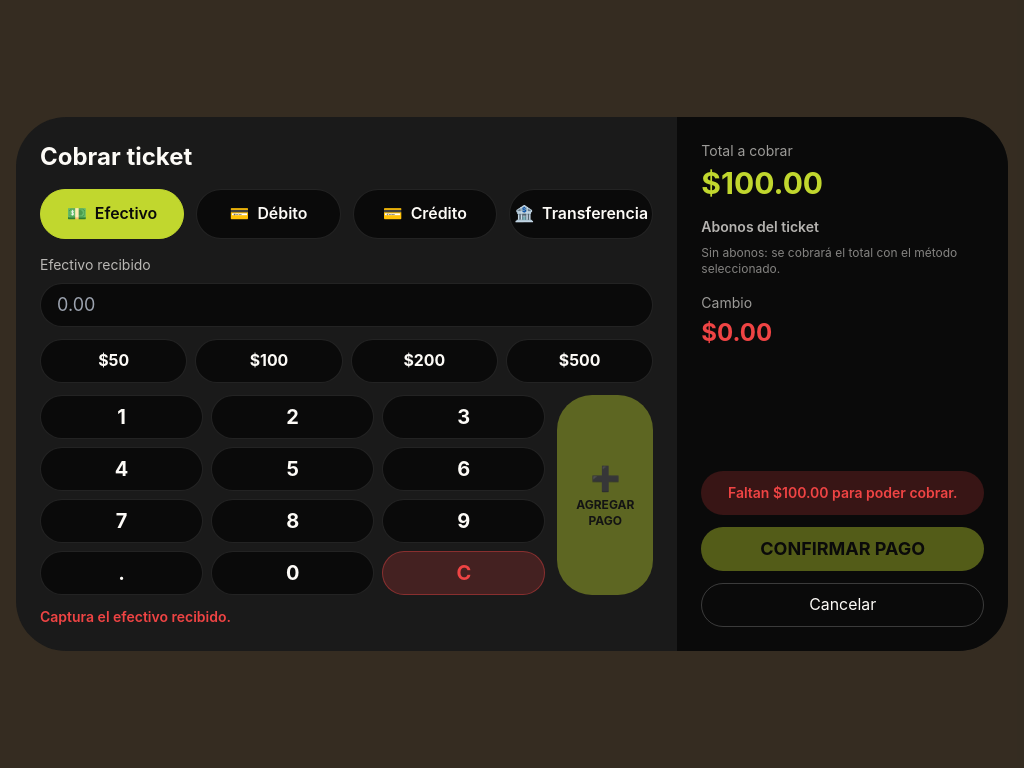
Test case: F9.0.2 — CheckoutScreen integra el teclado › criterio 8: el input nativo sigue funcionando
Type "150" into the number field labelled "Efectivo recibido".
click(347, 305); type("150")  # box [40, 283, 653, 327]
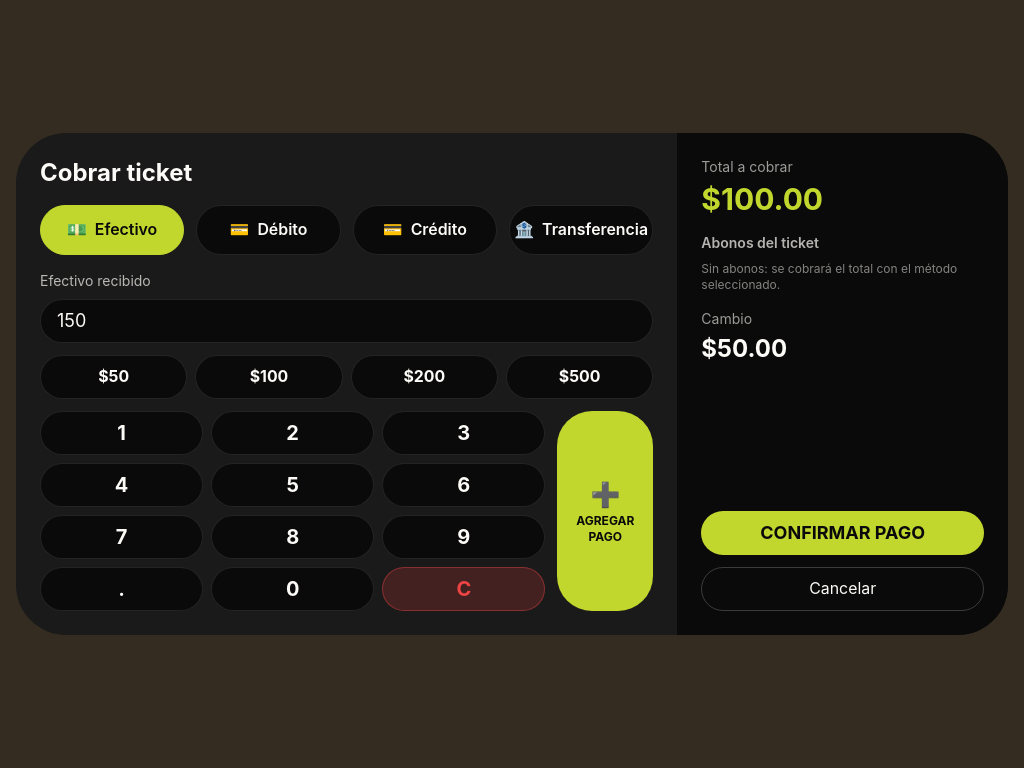
Expected: the text "$50.00" is shown, [701, 334, 787, 363]
